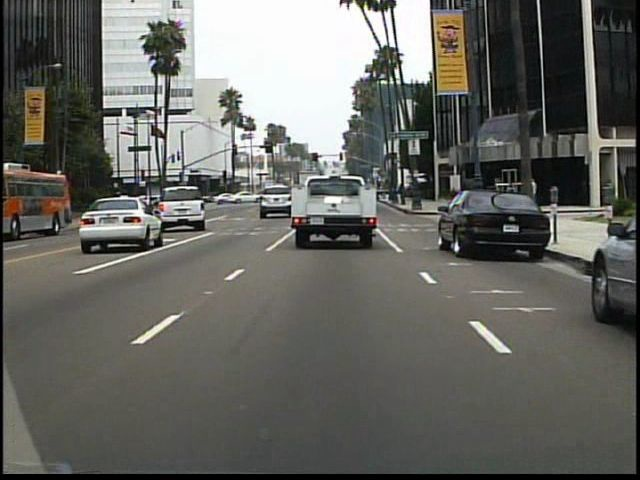person: (532, 176, 538, 198)
